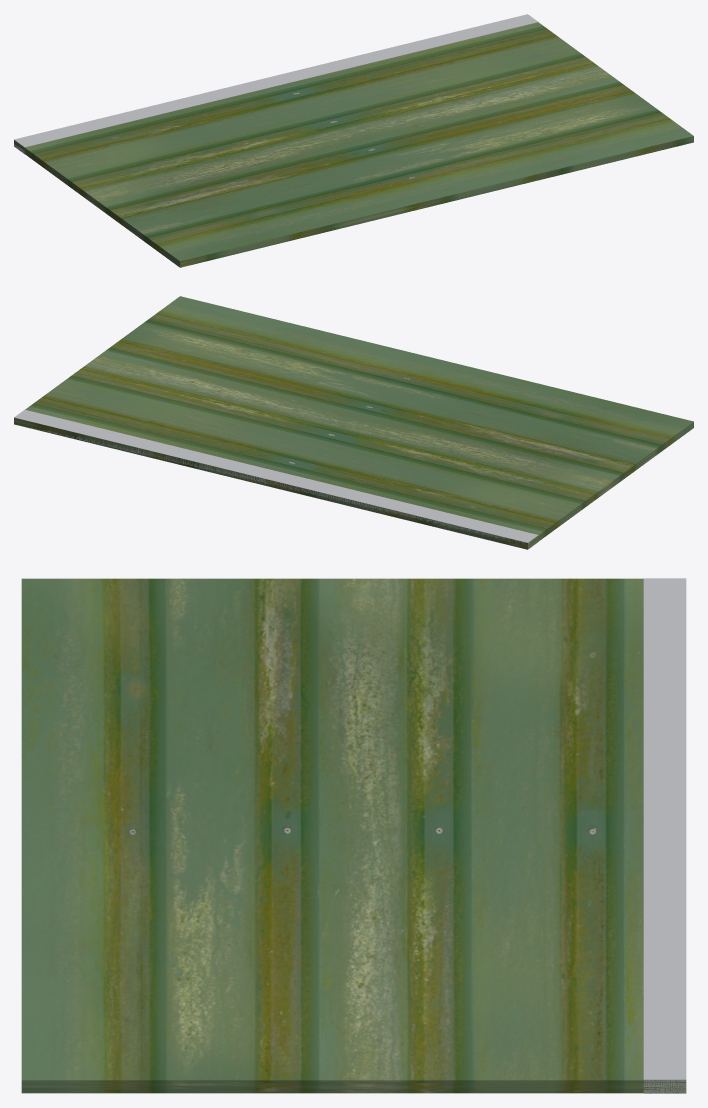
Rendered from shelf_picking_wallpanel.glb.
3 renders of one model, top to bottom at view 1: azimuth 30°, elevation 25°; view 2: azimuth 150°, elevation 25°; view 3: azimuth 270°, elevation 25°, orthographic. The views are drawn at different scales.
Parts seen in each view (by area): view 1: WALL_panel, WALL_base; view 2: WALL_panel, WALL_base; view 3: WALL_panel, WALL_base.
Boxes of the visible parts, bbox=[...] form: WALL_panel: bbox=[14, 22, 693, 267]; WALL_base: bbox=[14, 14, 538, 153]; WALL_panel: bbox=[14, 296, 693, 549]; WALL_base: bbox=[14, 409, 538, 549]; WALL_panel: bbox=[21, 578, 686, 1093]; WALL_base: bbox=[643, 578, 686, 1093].
Size of the model in its own units: 5 by 0.065 by 2.8.
2 materials, 1 textured.
